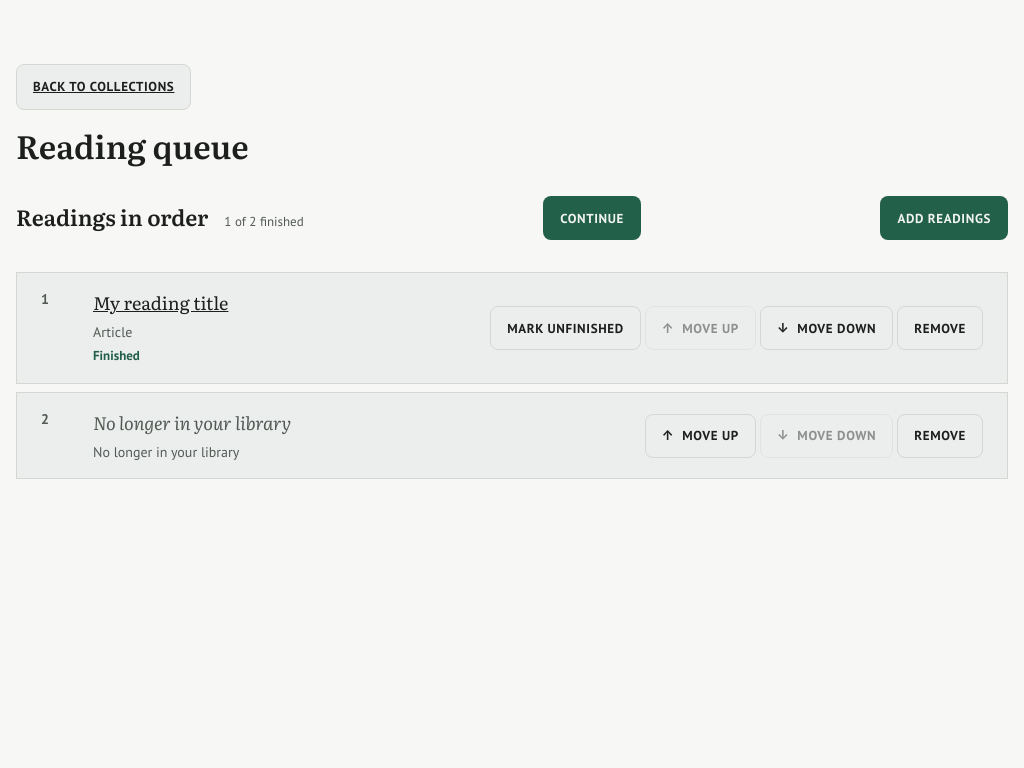
Test case: collection detail Continue collection (issue #247) › a BLOCKED plan announces the honest refusal — an unfinished reading is no longer in the library
The width and height of the screenshot is (1024, 768).
Click the button with aria-label "Continue this collection": (592,218) [543,196,641,240]
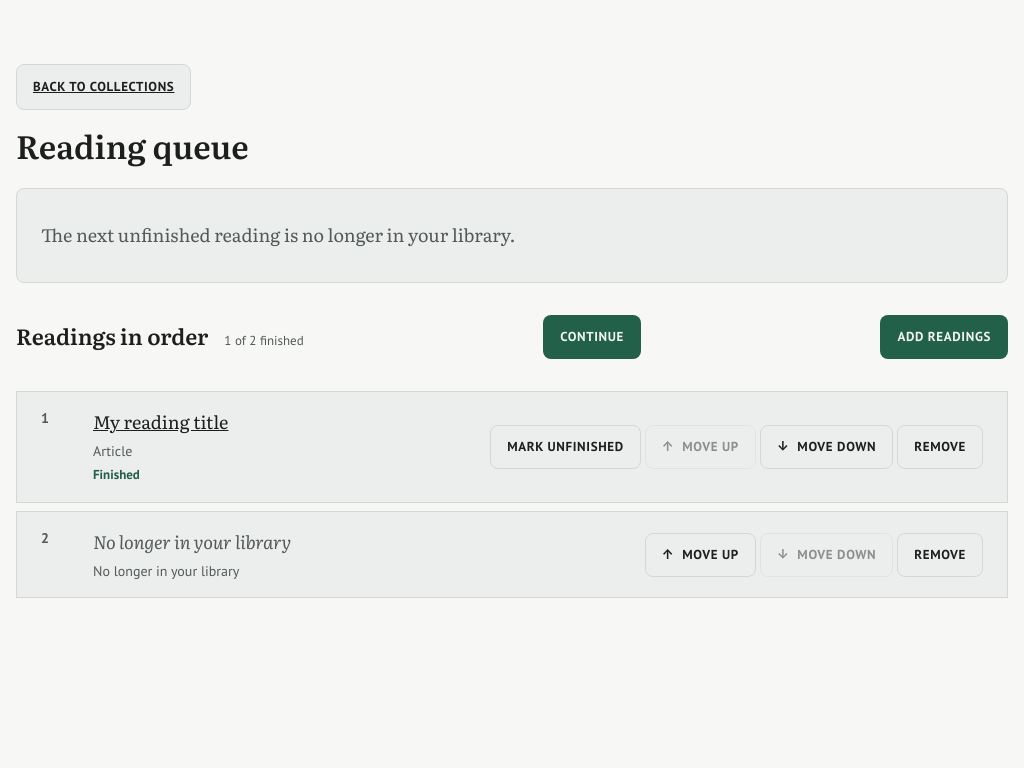
Expected: the text "The next unfinished reading is no longer in your library." is shown, [41,221,516,248]
